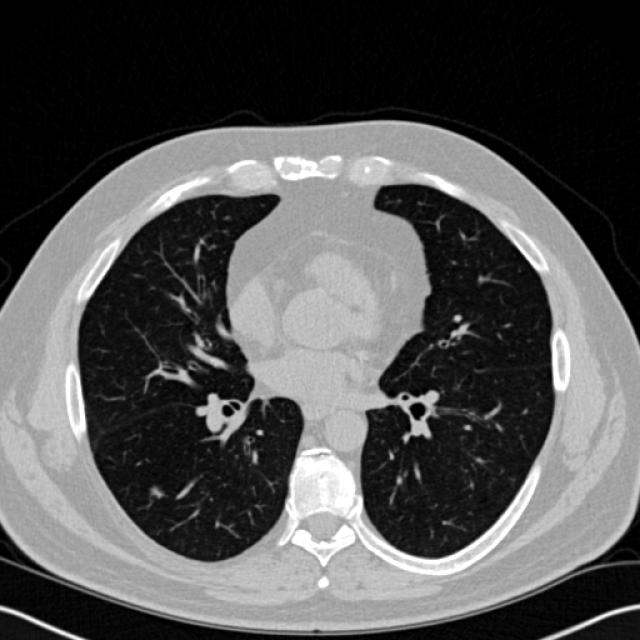nodule: (141, 477, 169, 505)
